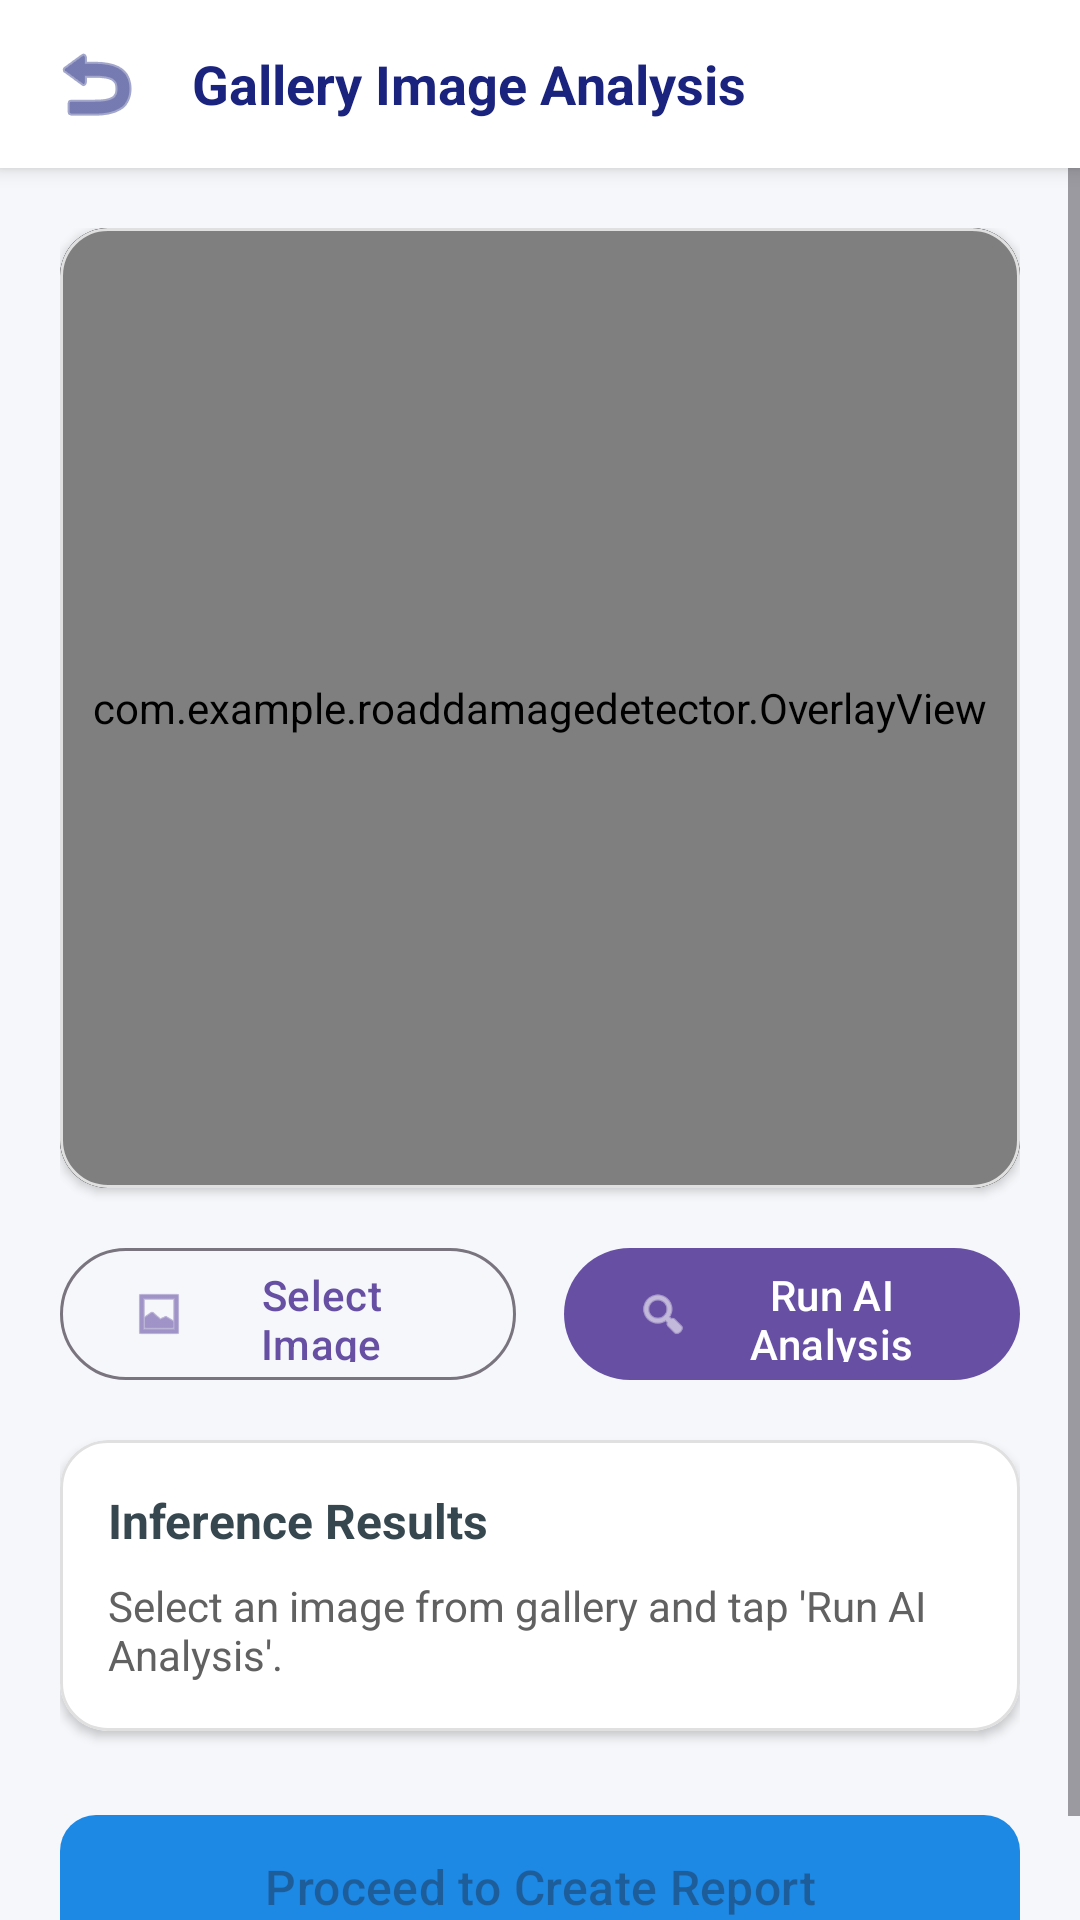

Named icons in this screenshot (1080 x 1920) and their centers, (x,y):
Back: (97,84)
